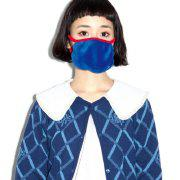OK: (70, 21, 116, 75)
